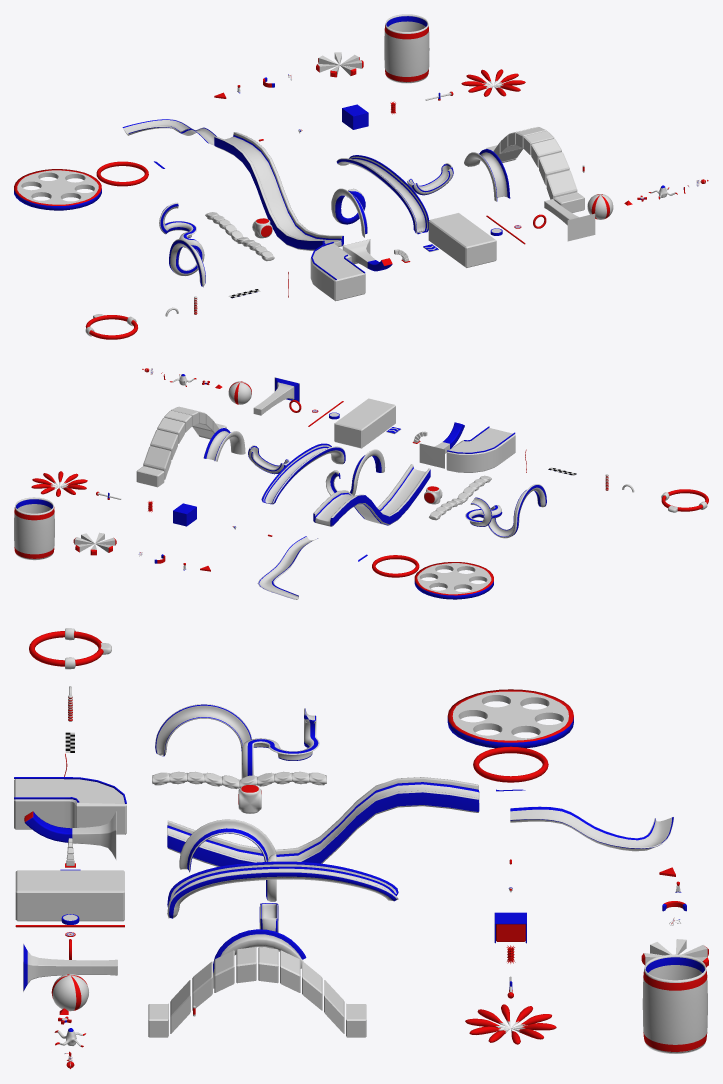
Rendered from wipeout new.fbx.
3 renders of one model, top to bottom at view 1: azimuth 30°, elevation 25°; view 2: azimuth 150°, elevation 25°; view 3: azimuth 270°, elevation 25°, orthographic. The views are drawn at different scales.
Parts seen in each view (by area): view 1: wp_prop17, wp_prop32, wp_prop29, wp_prop01, wp_prop0702, wp_prop15, wp_prop20, wp_prop_13, wp_prop06, wp_prop16, wpp_prop_26, wp_prop30 (+10 smaller); view 2: wp_prop17, wp_prop32, wp_prop29, wp_prop0702, wp_prop01, wp_prop20, wp_prop15, wpp_prop_26, wp_prop05, wp_prop_13, wp_prop06, wp_prop16 (+12 smaller); view 3: wp_prop17, wp_prop32, wp_prop29, wp_prop01, wp_prop0702, wp_prop15, wp_prop20, wpp_prop_26, wp_prop16, wp_prop19, wp_prop30, wp_prop05 (+16 smaller).
Boxes of the visible parts, <box> form: wp_prop17: <box>214,132,343,250</box>; wp_prop32: <box>384,14,429,83</box>; wp_prop29: <box>14,169,101,210</box>; wp_prop01: <box>428,213,496,267</box>; wp_prop0702: <box>310,243,365,301</box>; wp_prop15: <box>336,155,428,234</box>; wp_prop20: <box>159,202,205,287</box>; wp_prop_13: <box>464,149,510,201</box>; wp_prop06: <box>544,199,595,241</box>; wp_prop16: <box>331,188,367,237</box>; wpp_prop_26: <box>122,119,217,145</box>; wp_prop30: <box>461,69,525,96</box>; wp_prop17: <box>313,464,430,526</box>; wp_prop32: <box>14,497,54,560</box>; wp_prop29: <box>414,562,493,599</box>; wp_prop0702: <box>446,428,515,472</box>; wp_prop01: <box>334,398,395,448</box>; wp_prop20: <box>465,484,546,538</box>; wp_prop15: <box>261,443,345,504</box>; wpp_prop_26: <box>257,536,318,599</box>; wp_prop05: <box>419,422,464,468</box>; wp_prop_13: <box>203,428,245,461</box>; wp_prop06: <box>253,377,299,415</box>; wp_prop16: <box>325,449,385,495</box>; wp_prop17: <box>167,777,479,866</box>; wp_prop32: <box>642,954,707,1053</box>; wp_prop29: <box>447,689,573,748</box>; wp_prop01: <box>15,870,124,921</box>; wp_prop0702: <box>14,779,126,834</box>; wp_prop15: <box>167,861,398,918</box>; wp_prop20: <box>155,704,319,778</box>; wpp_prop_26: <box>510,806,673,851</box>; wp_prop16: <box>179,819,276,901</box>; wp_prop19: <box>152,771,326,789</box>; wp_prop30: <box>465,1004,556,1044</box>; wp_prop05: <box>24,811,116,859</box>.
Bounding box in the file's own units: 17169 × 1623 × 11545.
